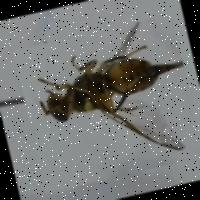Oriental-fruit-fly: (12, 13, 200, 192)
